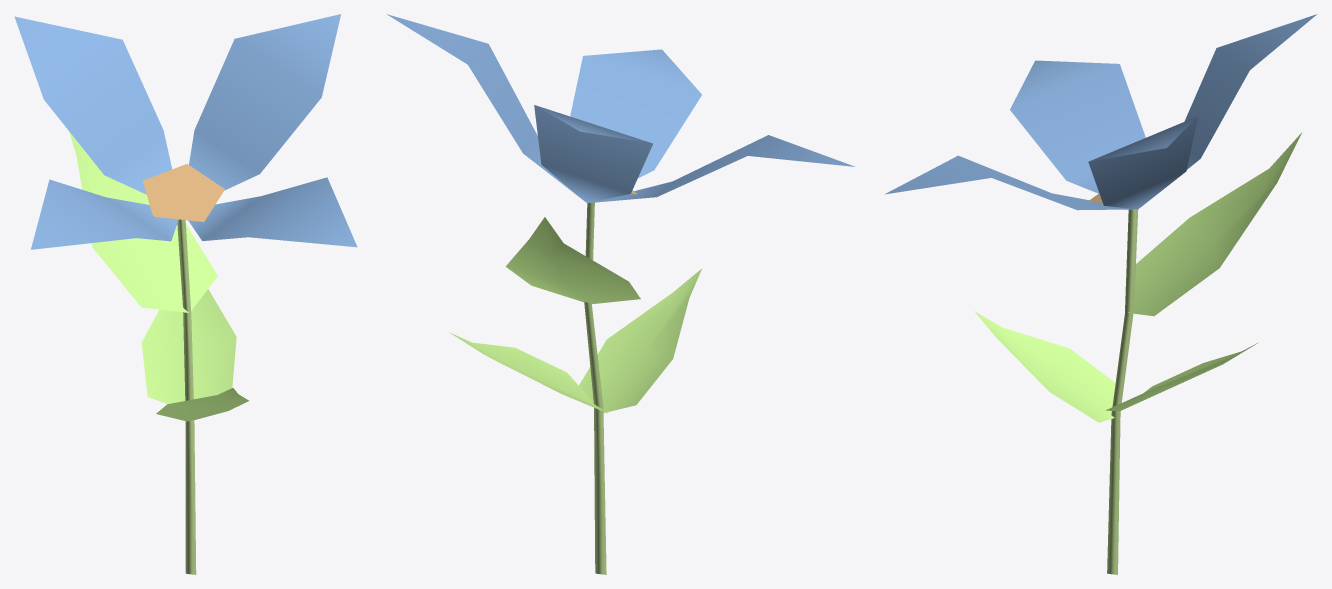
The model's file is flower1.fbx.
3 renders of one model, left to right at view 1: azimuth 30°, elevation 25°; view 2: azimuth 150°, elevation 25°; view 3: azimuth 270°, elevation 25°, orthographic. The views are drawn at different scales.
Parts seen in each view (by area): view 1: Flower_a_TwoS_09; view 2: Flower_a_TwoS_09; view 3: Flower_a_TwoS_09.
Boxes of the visible parts, <box> form: Flower_a_TwoS_09: <box>14,14,357,574</box>; Flower_a_TwoS_09: <box>387,14,854,574</box>; Flower_a_TwoS_09: <box>885,14,1317,574</box>.
Bounding box in the file's own units: 52.87 × 54.42 × 69.96.
Materials: 1 (1 with a texture image).
